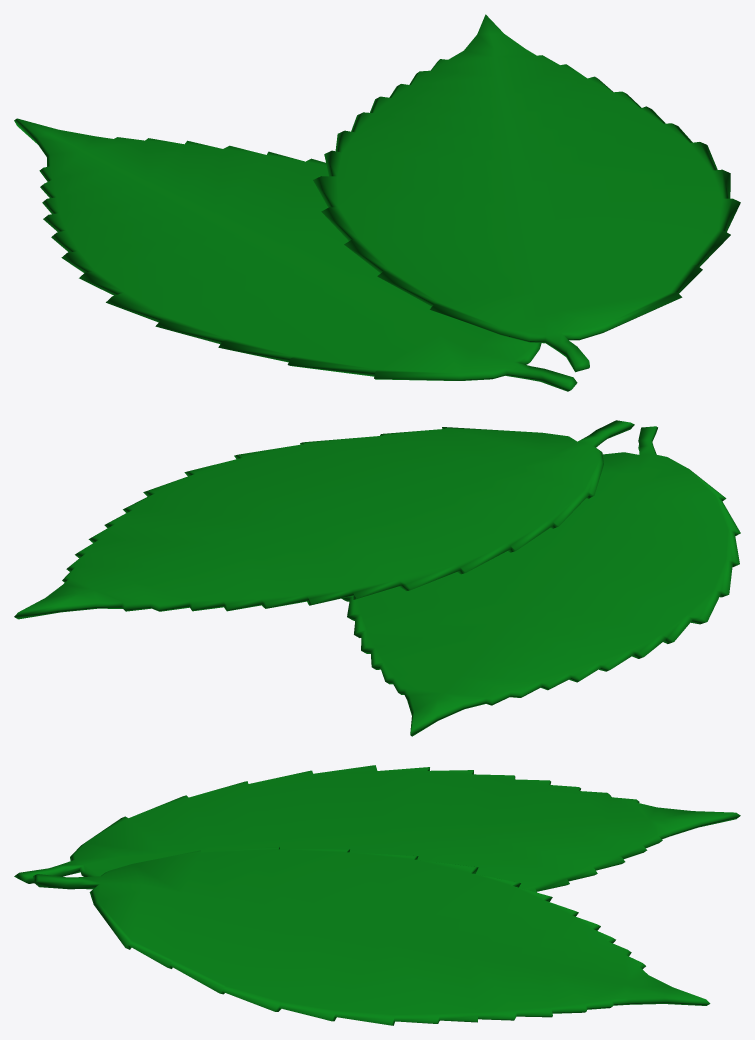
Rendered from SM_Leafs_01.fbx.
The picture shows the model from 3 angles, top to bottom: view 1: azimuth 30°, elevation 25°; view 2: azimuth 150°, elevation 25°; view 3: azimuth 270°, elevation 25°; orthographic projection. The views are drawn at different scales.
Parts seen in each view (by area): view 1: Leaf; view 2: Leaf; view 3: Leaf.
Boxes of the visible parts, x1,y1,x2,y2 form: Leaf: (14,14,740,391); Leaf: (14,420,740,736); Leaf: (14,765,740,1025).
Size of the model in its own units: 33.38 by 1.11 by 39.26.
